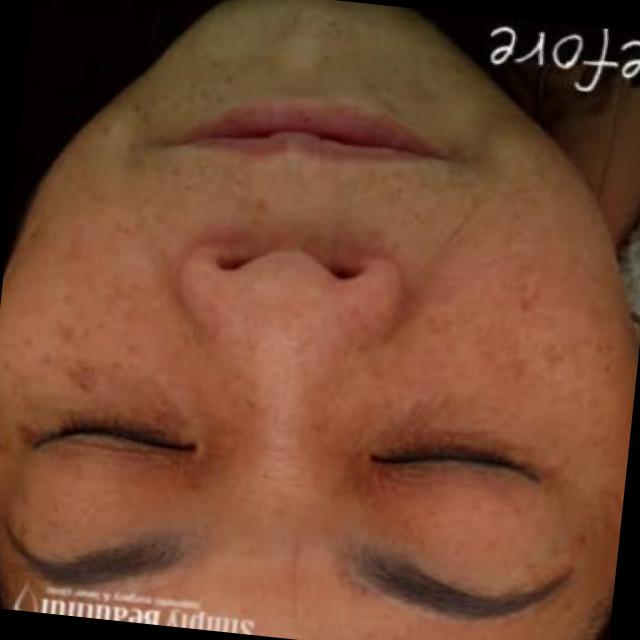melasma: (362, 150, 632, 454), (0, 133, 184, 391)
